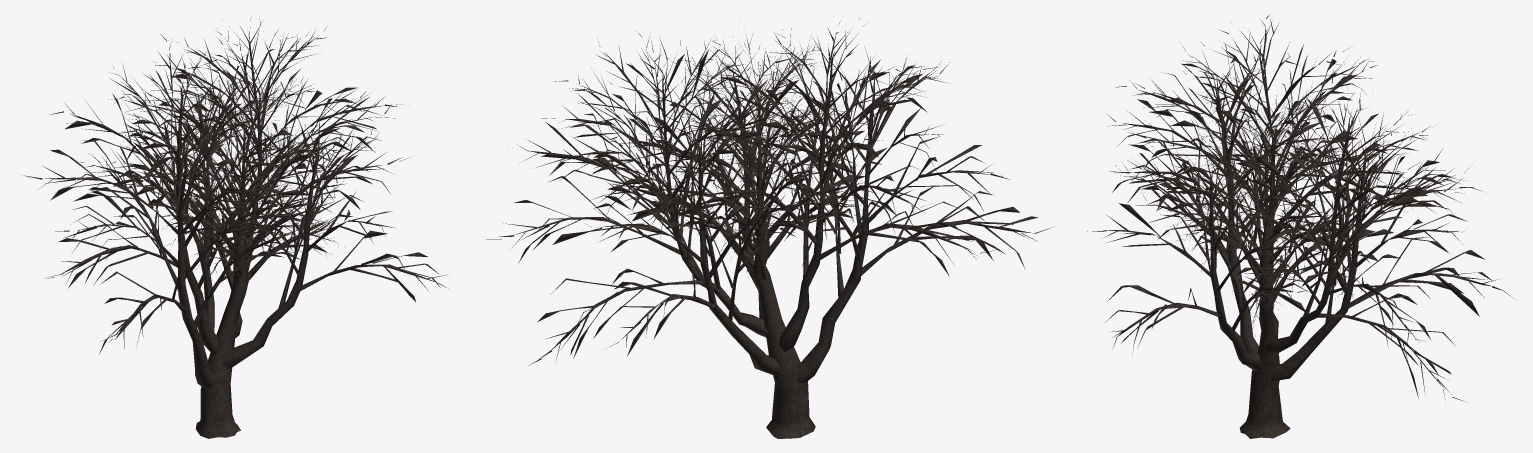
File: Bark01_4.fbx
3 views of the same model, side by side, from view 1: azimuth 30°, elevation 25°; view 2: azimuth 150°, elevation 25°; view 3: azimuth 270°, elevation 25° (orthographic). The views are drawn at different scales.
Parts seen in each view (by area): view 1: Bark01_4; view 2: Bark01_4; view 3: Bark01_4.
Boxes of the visible parts, x1,y1,x2,y2 form: Bark01_4: (24,16,448,438); Bark01_4: (486,18,1052,438); Bark01_4: (1087,14,1513,438).
Size of the model in its own units: 896 by 887 by 1001.
